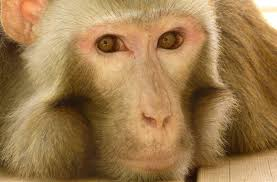monkey: (4, 2, 277, 182)
